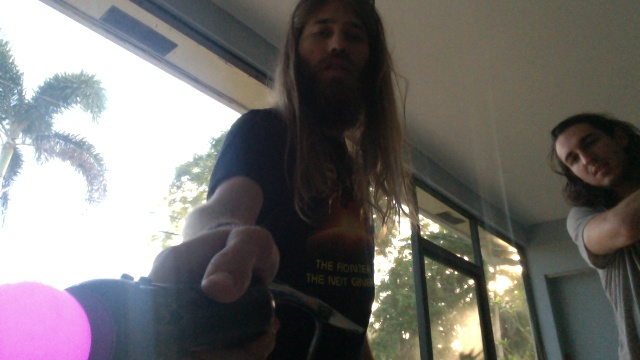wand: (1, 283, 91, 360)
